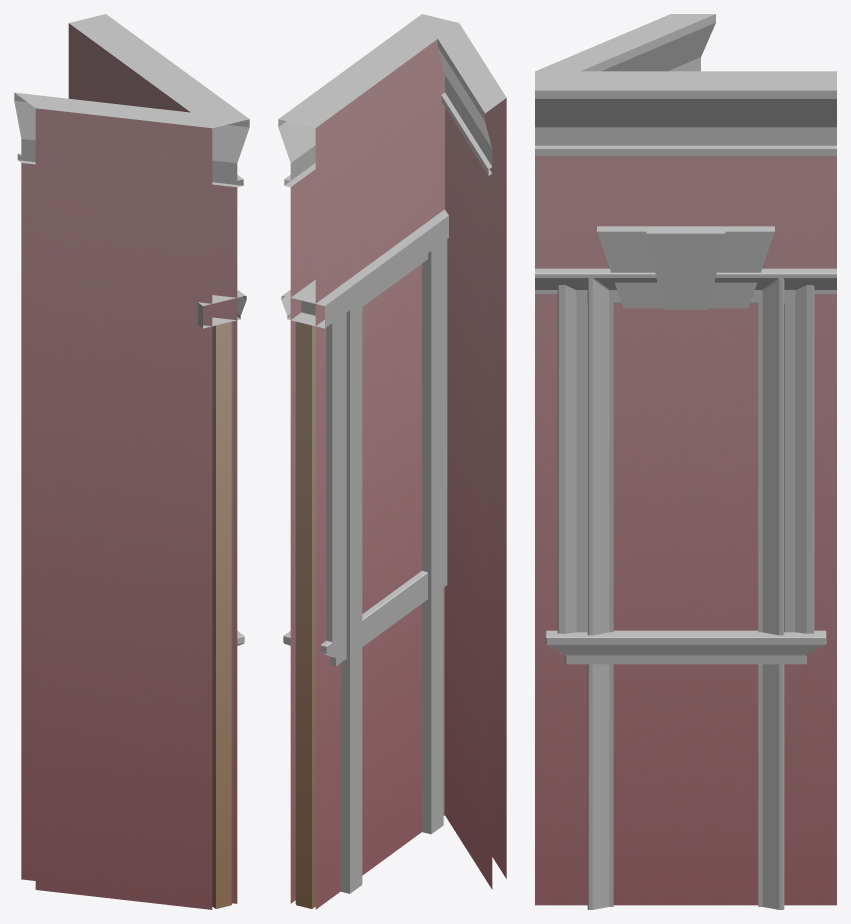
The model's file is Wall (2).fbx.
3 renders of one model, left to right at view 1: azimuth 30°, elevation 25°; view 2: azimuth 150°, elevation 25°; view 3: azimuth 270°, elevation 25°, orthographic. The views are drawn at different scales.
Parts seen in each view (by area): view 1: Blank_Corner, Right, Frame_Right, Frame_Left, Window, Blank; view 2: Frame_Right, Blank, Blank_Corner, Frame_Left, Window, Left; view 3: Blank, Frame_Right, Window, Frame_Left, Window_Decor, Blank_Corner.
Part boxes in pixels (<box>): Blank_Corner: <box>14,92,249,909</box>; Right: <box>212,321,232,908</box>; Frame_Right: <box>68,14,248,328</box>; Frame_Left: <box>68,14,247,186</box>; Window: <box>68,24,244,645</box>; Blank: <box>68,23,186,111</box>; Frame_Right: <box>278,14,458,909</box>; Blank: <box>279,41,444,908</box>; Blank_Corner: <box>424,17,506,889</box>; Frame_Left: <box>278,14,458,834</box>; Window: <box>283,40,447,907</box>; Left: <box>295,315,315,908</box>; Blank: <box>535,91,836,905</box>; Frame_Right: <box>535,71,836,909</box>; Window: <box>535,156,836,905</box>; Frame_Left: <box>535,71,836,909</box>; Window_Decor: <box>597,226,774,309</box>; Blank_Corner: <box>535,14,715,148</box>.
Size of the model in its own units: 60.77 by 300 by 100.
